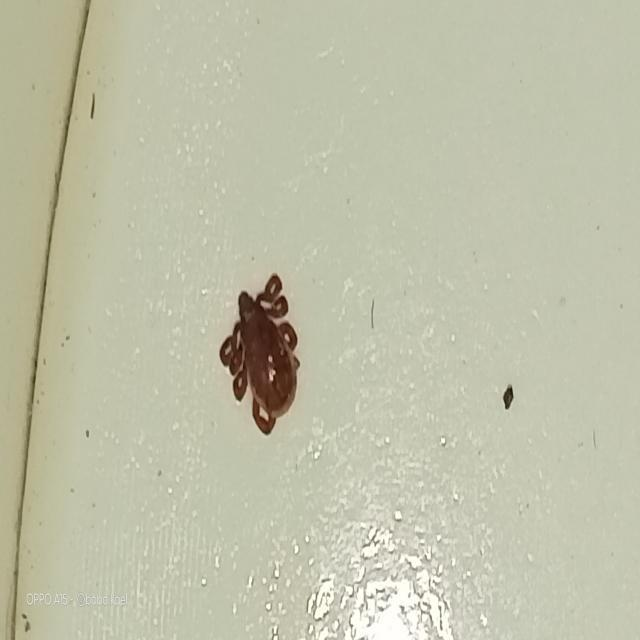Rhipicephalus Sanguineus-M: (217, 275, 303, 438)
